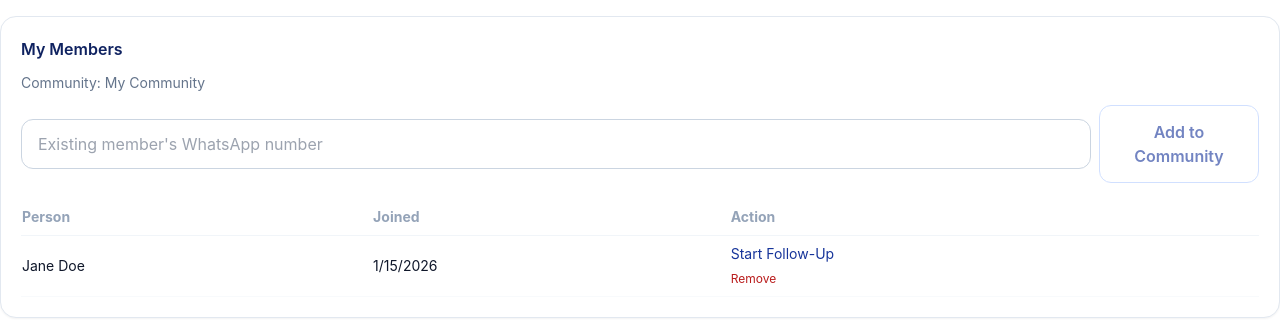
it: MyMembers › shows a Remove action for Community rows, and removing a member refreshes the roster
Check: the text "Jane Doe" is shown, box [21,236,372,296]
Click the button "Remove": click(753, 279) [731,271,776,287]
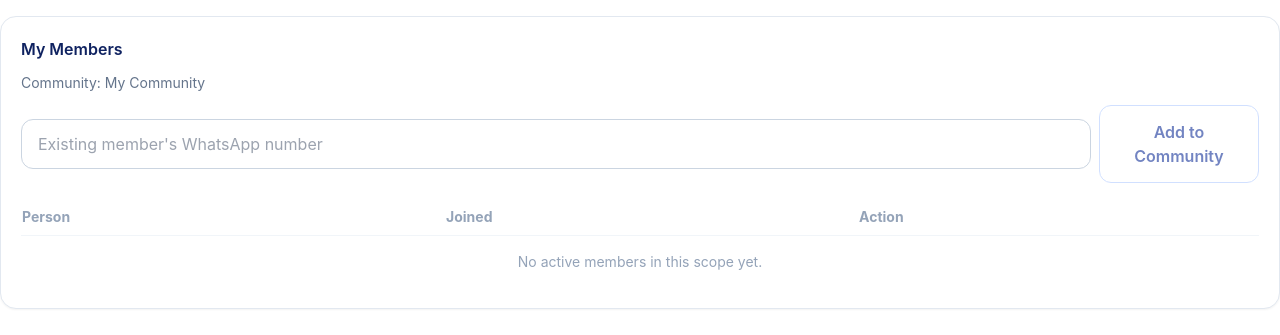
Check: the text "Jane Doe" is gone
